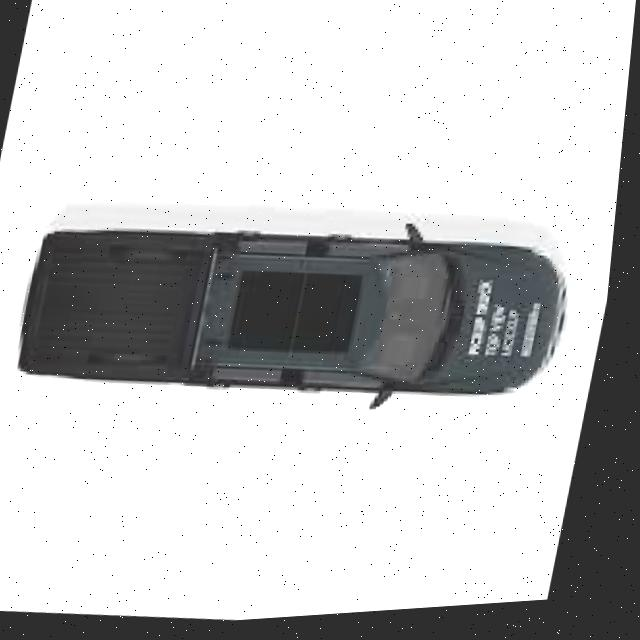truck: (10, 198, 572, 436)
